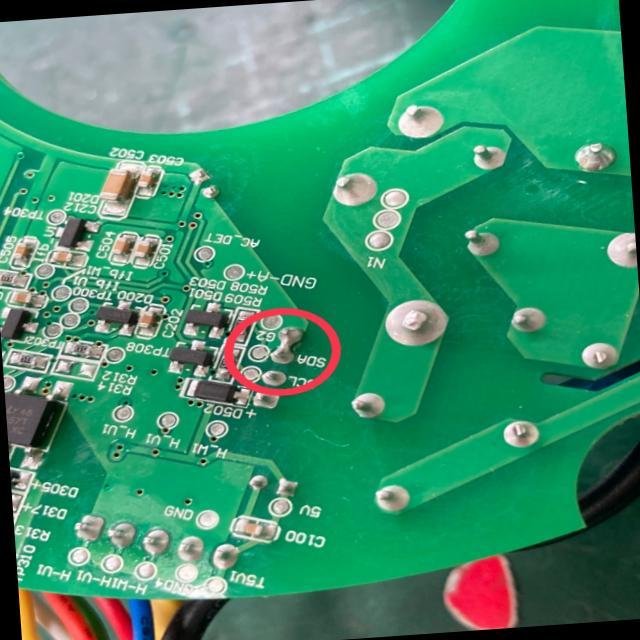Short_circuit: (270, 327, 304, 364)
